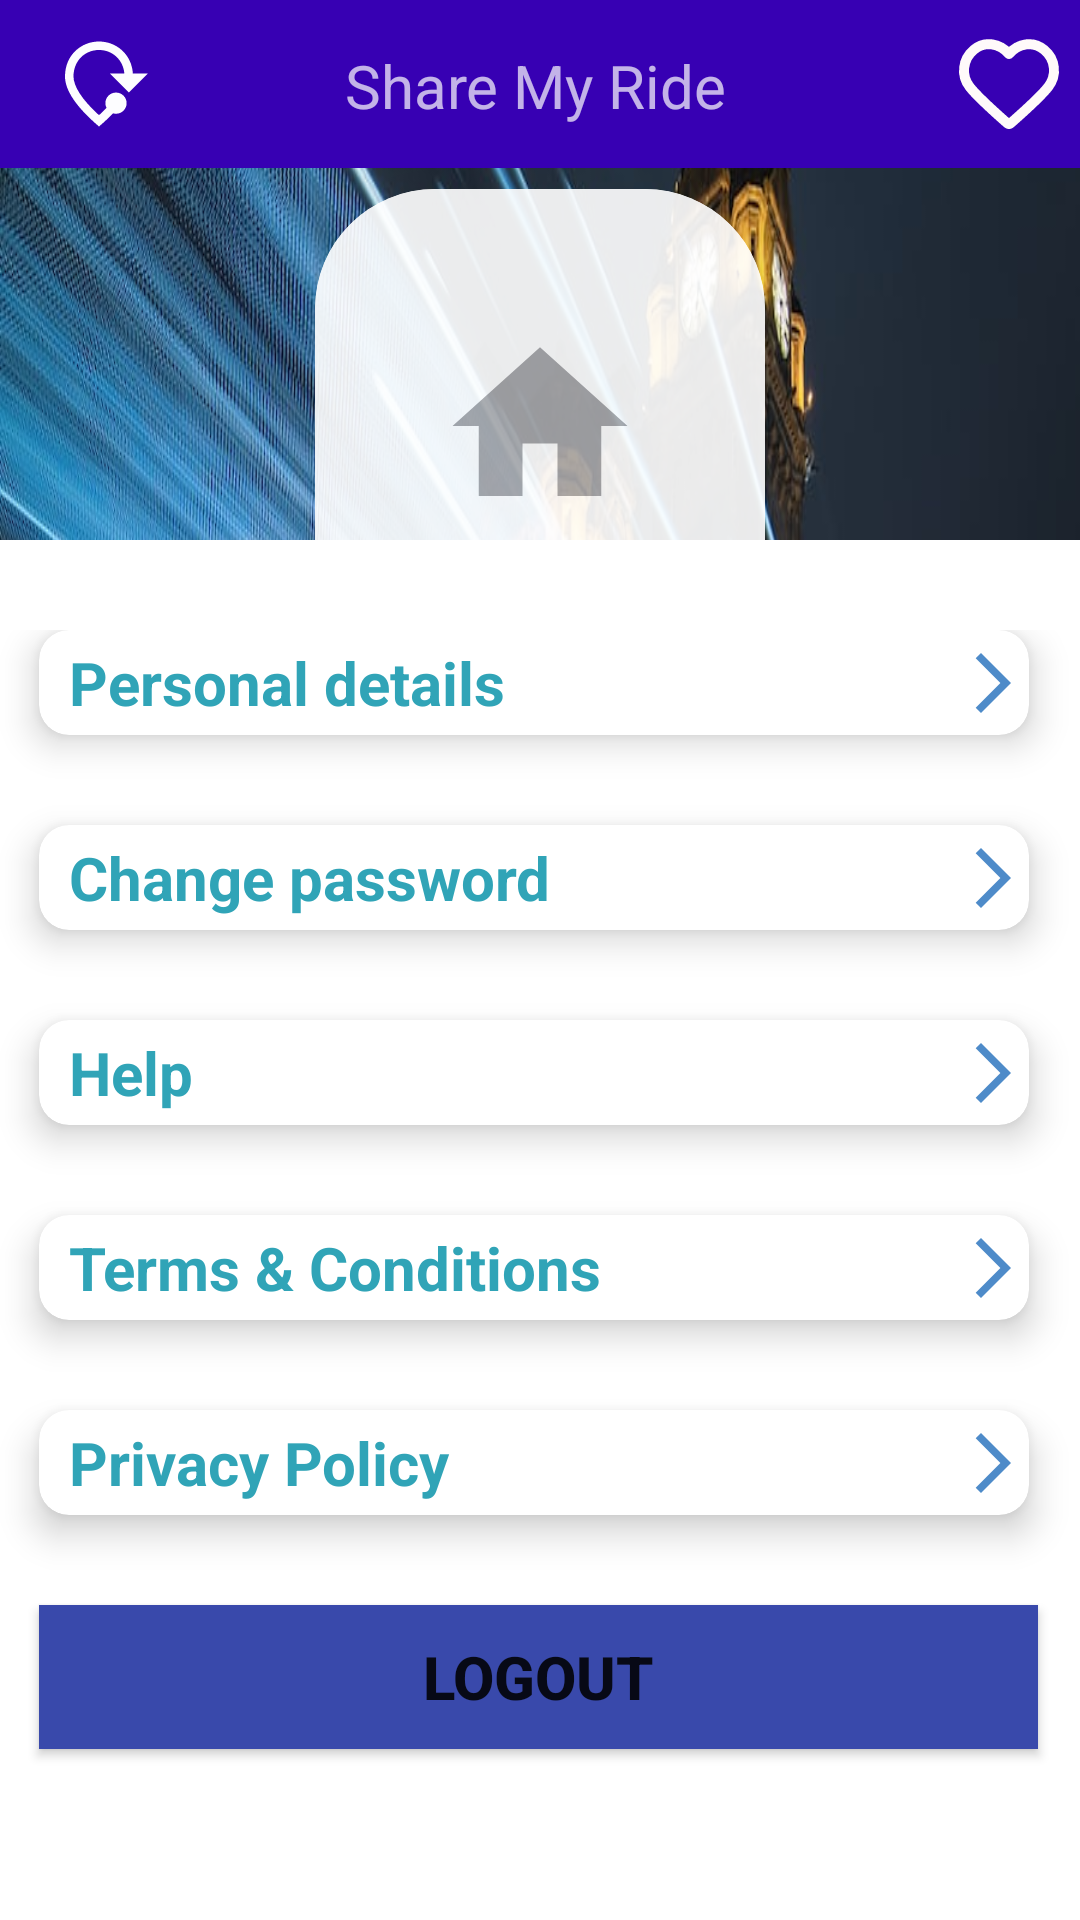

Named icons in this screenshot (1080x1920) and their bounding boxes, [x1, y1, x2, y2]:
heart toolbar: [959, 39, 1059, 129]
home: [453, 347, 627, 496]
